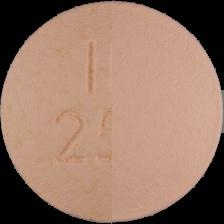35356-670: (0, 0, 224, 224)
